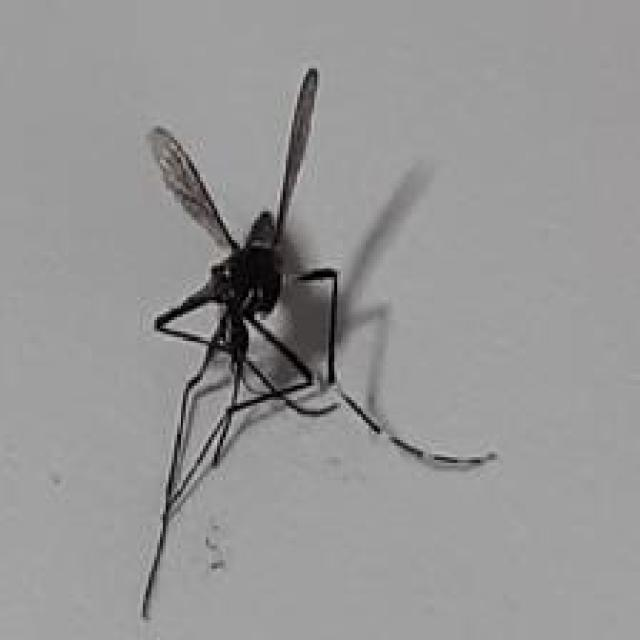Aedes albopictus: (138, 66, 498, 620)
